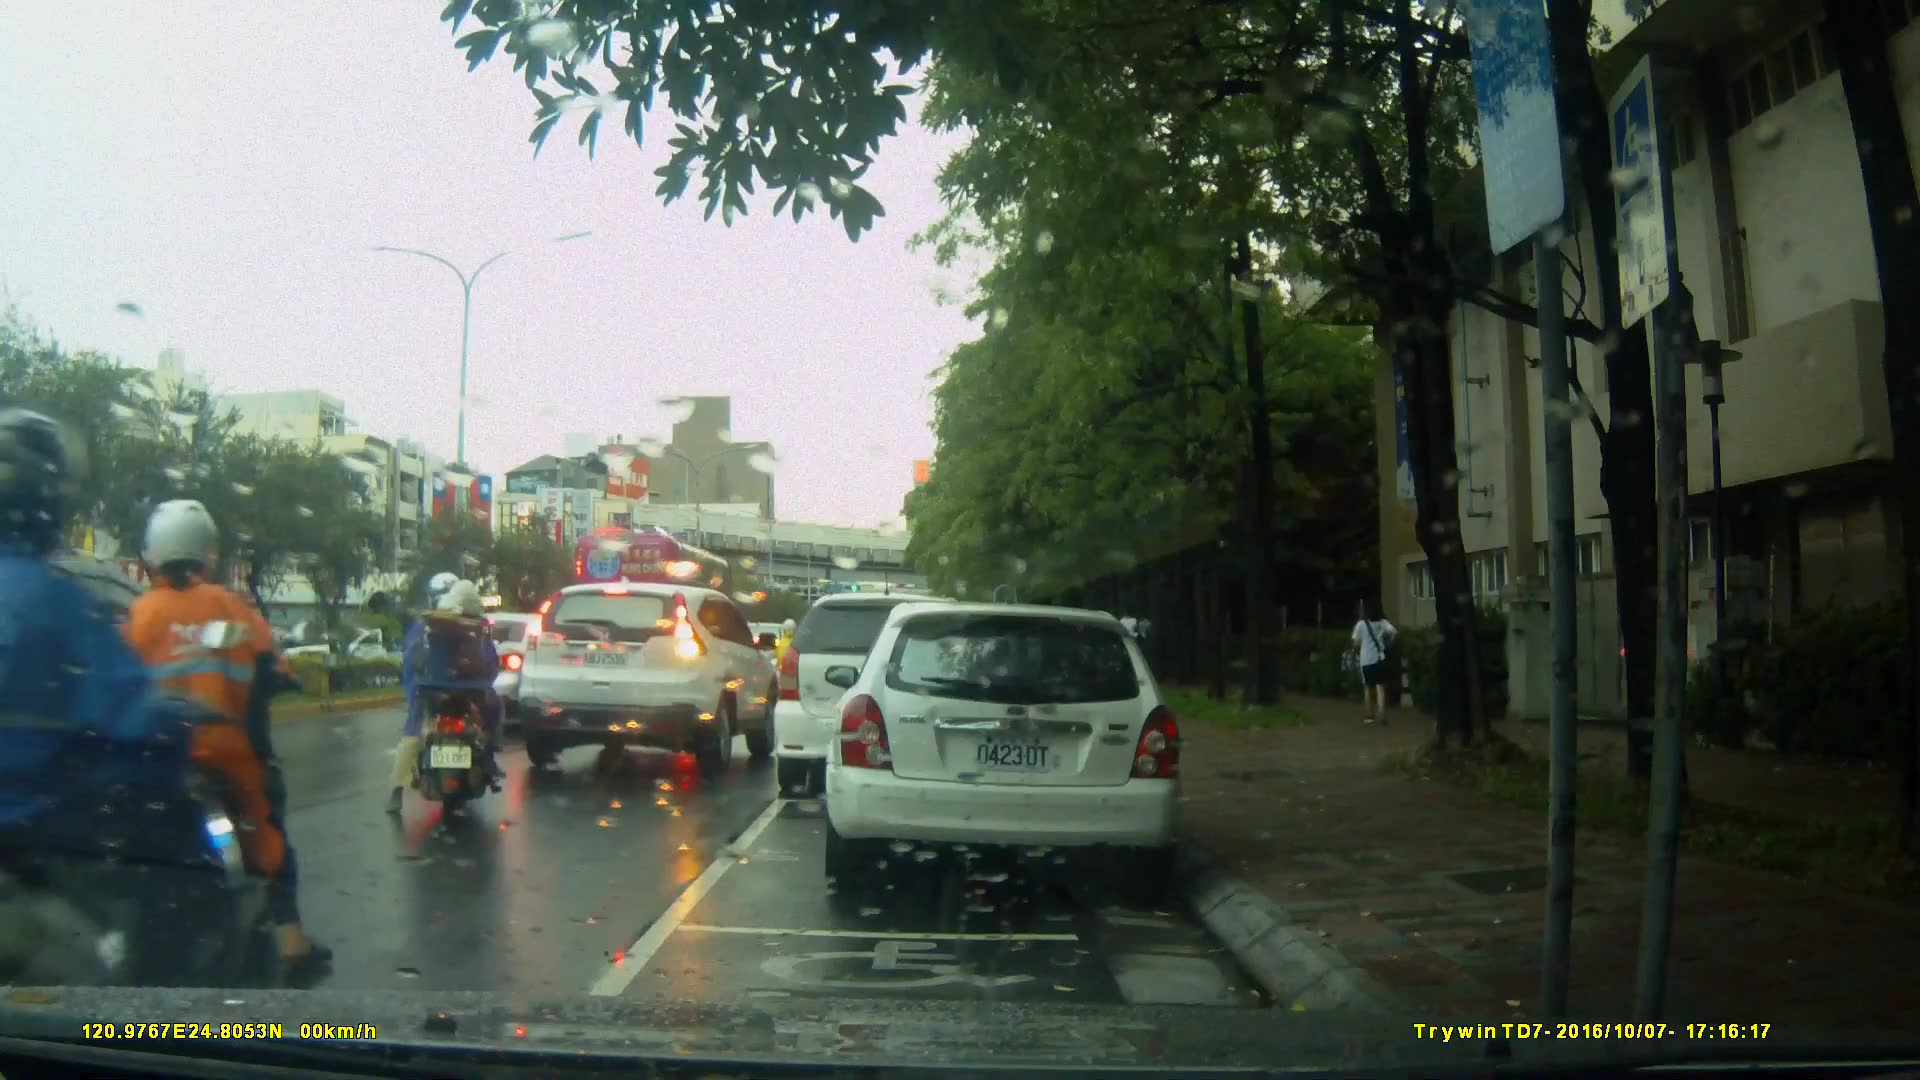pedestrian: (1339, 586, 1404, 742), (1116, 603, 1147, 687)
rider: (1, 419, 235, 1060), (24, 498, 310, 989), (390, 582, 516, 825), (771, 614, 803, 712)
vehicle: (835, 594, 1194, 898), (507, 583, 788, 779), (1, 541, 229, 767), (776, 590, 1026, 784), (569, 528, 735, 635)
